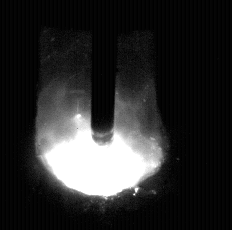arame: (92, 0, 115, 144)
poca: (34, 0, 169, 230)
